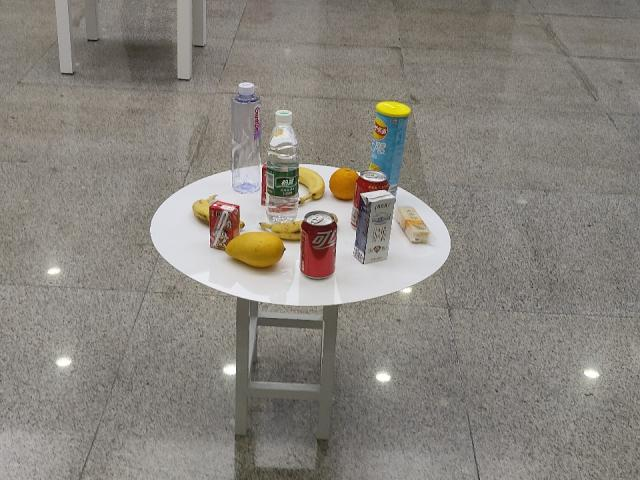Canned_drinks: (307, 213, 338, 279)
bottle: (269, 107, 303, 219), (231, 82, 261, 193)
cylinder: (376, 101, 406, 190)
drink_box: (362, 193, 391, 264), (209, 201, 230, 253)
